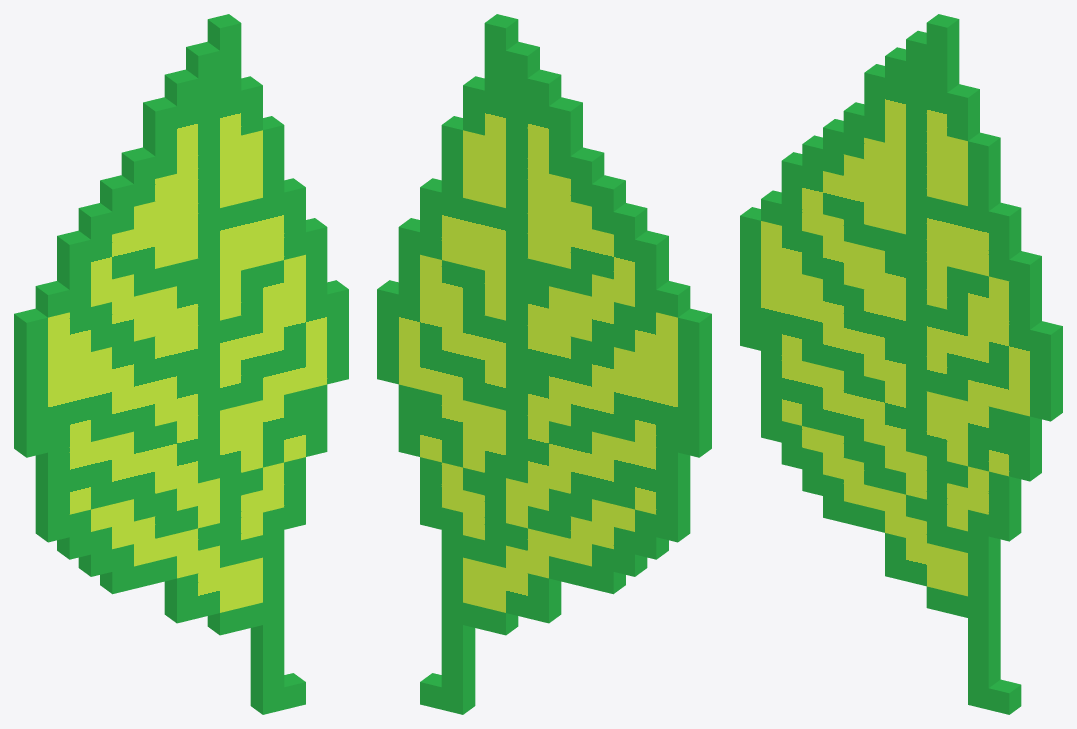
3 views of the same model, side by side, from view 1: azimuth 30°, elevation 25°; view 2: azimuth 150°, elevation 25°; view 3: azimuth 330°, elevation 25° (orthographic). The views are drawn at different scales.
Parts seen in each view (by area): view 1: Object; view 2: Object; view 3: Object.
Part boxes in pixels (bbox=[...]): Object: bbox=[14, 14, 348, 714]; Object: bbox=[377, 14, 711, 714]; Object: bbox=[740, 14, 1062, 714].
Bounding box in the file's own units: 15 × 31 × 1.
1 material, 1 textured.
